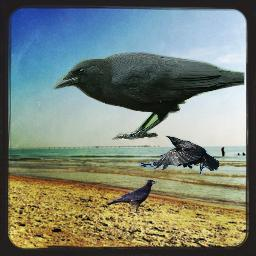Crow: (53, 52, 245, 142), (137, 135, 219, 175), (106, 179, 159, 217)
